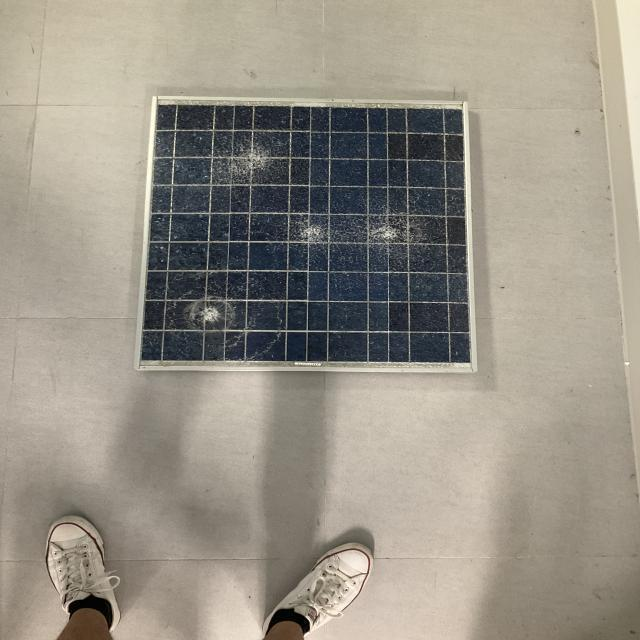Anomaly Solar Panel: (132, 94, 476, 368)
Structural Damage: (279, 196, 432, 266), (168, 270, 263, 349), (198, 118, 284, 205)
